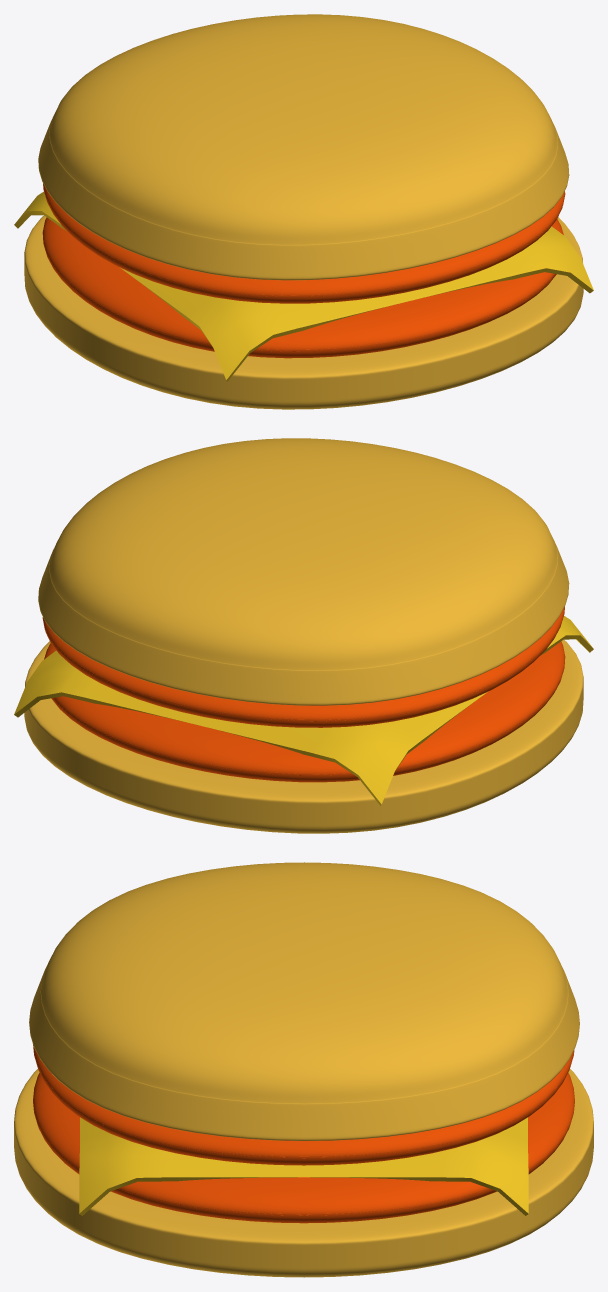
The model's file is hanbao.glb.
The picture shows the model from 3 angles, top to bottom: view 1: azimuth 30°, elevation 25°; view 2: azimuth 150°, elevation 25°; view 3: azimuth 270°, elevation 25°; orthographic projection. The views are drawn at different scales.
Visible parts, largest first — view 1: Cube.003, Cube, Cube.001, Plane, Cube.002; view 2: Cube.003, Cube, Cube.001, Plane, Cube.002; view 3: Cube.003, Cube, Cube.001, Plane, Cube.002.
Boxes of the visible parts, x1,y1,x2,y2 form: Cube.003: (38, 14, 569, 280); Cube: (24, 215, 583, 409); Cube.001: (42, 217, 563, 358); Plane: (14, 191, 593, 381); Cube.002: (43, 183, 565, 303); Cube.003: (38, 438, 569, 705); Cube: (24, 639, 583, 833); Cube.001: (44, 641, 565, 782); Plane: (14, 616, 593, 805); Cube.002: (42, 606, 564, 727); Cube.003: (29, 862, 579, 1140); Cube: (14, 1069, 593, 1277); Cube.001: (33, 1072, 574, 1223); Plane: (79, 1117, 528, 1215); Cube.002: (33, 1045, 574, 1165).
Size of the model in its own units: 9.17 by 4.27 by 9.17.
